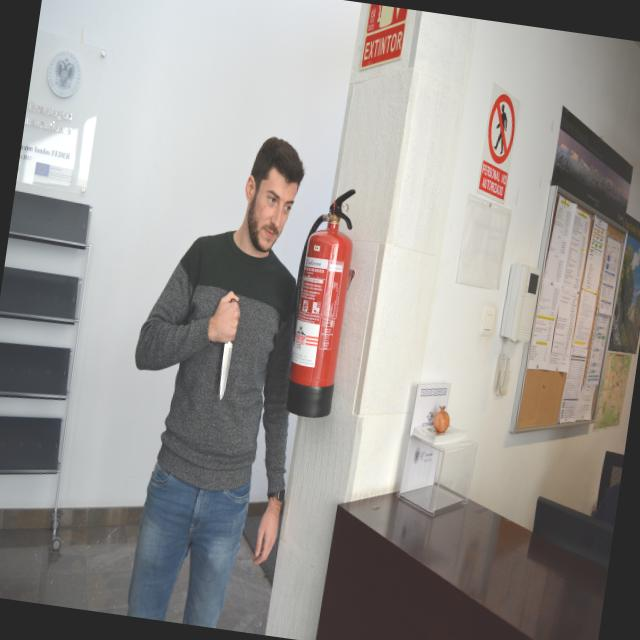knife: (212, 294, 244, 405)
